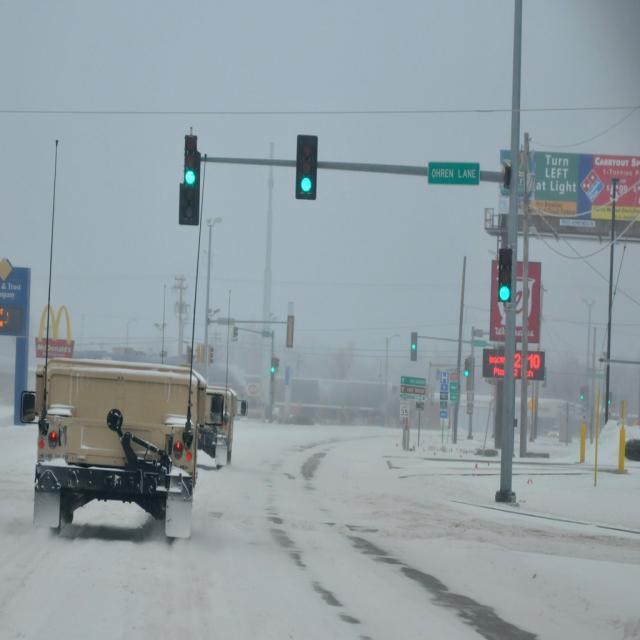traffic light: (178, 127, 201, 225), (295, 134, 318, 202), (497, 249, 513, 302), (411, 331, 418, 361), (271, 357, 279, 372), (464, 357, 470, 375)
